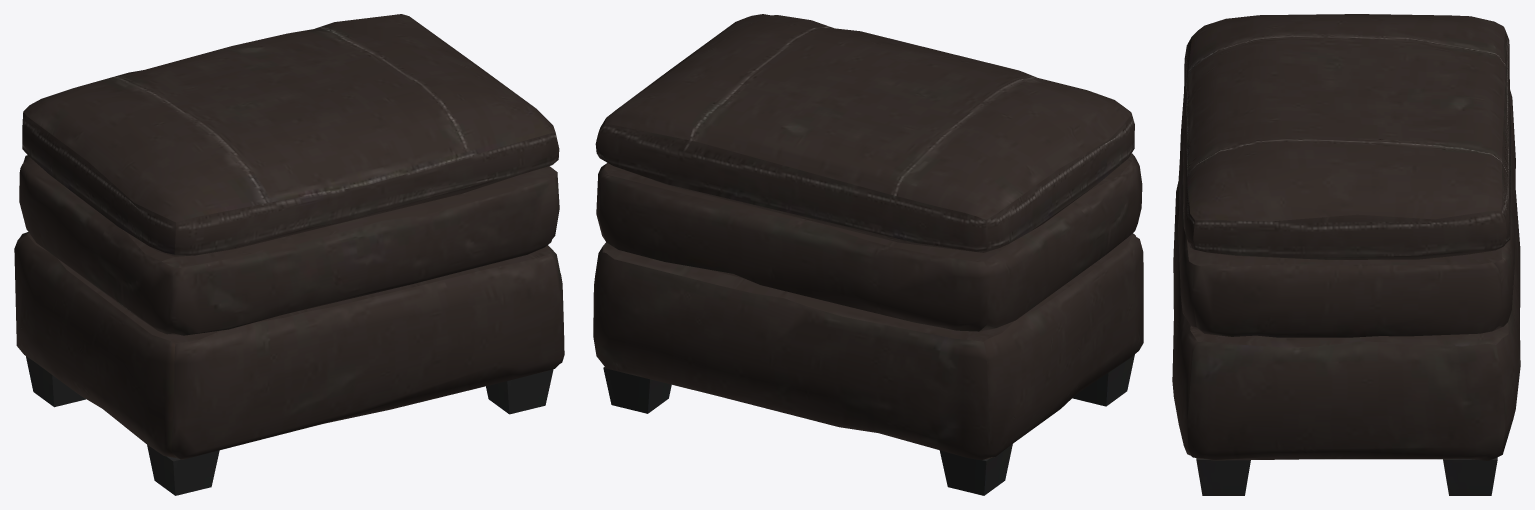
Rendered from Ottoman_01.glb.
3 renders of one model, left to right at view 1: azimuth 30°, elevation 25°; view 2: azimuth 150°, elevation 25°; view 3: azimuth 270°, elevation 25°, orthographic.
Visible parts, largest first — view 1: Ottoman_01; view 2: Ottoman_01; view 3: Ottoman_01.
Boxes of the visible parts, x1,y1,x2,y2 form: Ottoman_01: (14,14,564,495); Ottoman_01: (593,14,1143,495); Ottoman_01: (1172,14,1520,495).
Size of the model in its own units: 0.8829 by 0.6243 by 0.6211.
Materials: 1 (1 with a texture image).
